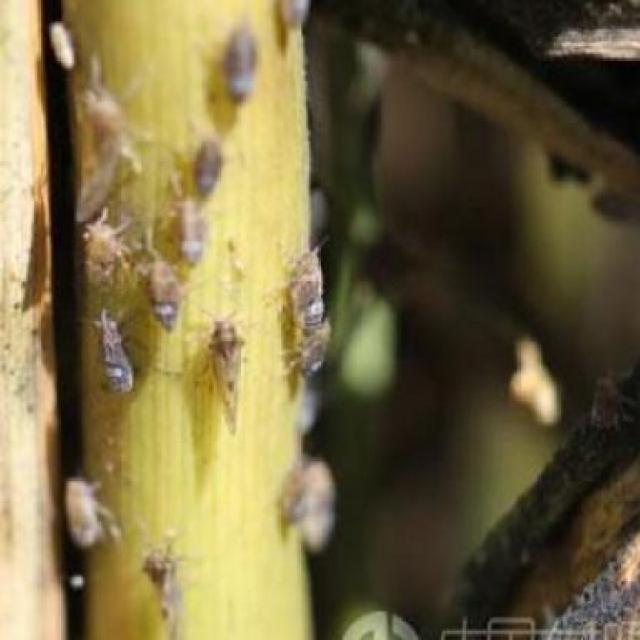brown-planthopper: (205, 318, 246, 432), (94, 311, 134, 403), (140, 550, 182, 633), (286, 254, 326, 329), (63, 478, 105, 548), (82, 217, 120, 291), (226, 16, 257, 106), (143, 264, 182, 334), (274, 462, 308, 524), (189, 130, 222, 193), (174, 202, 203, 261), (46, 16, 74, 69), (278, 0, 308, 28)
